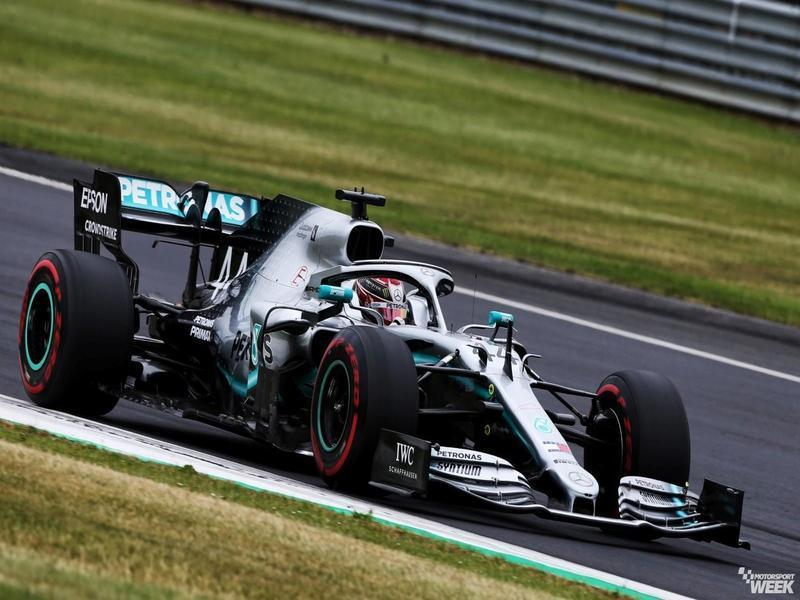f1: (32, 104, 781, 562)
